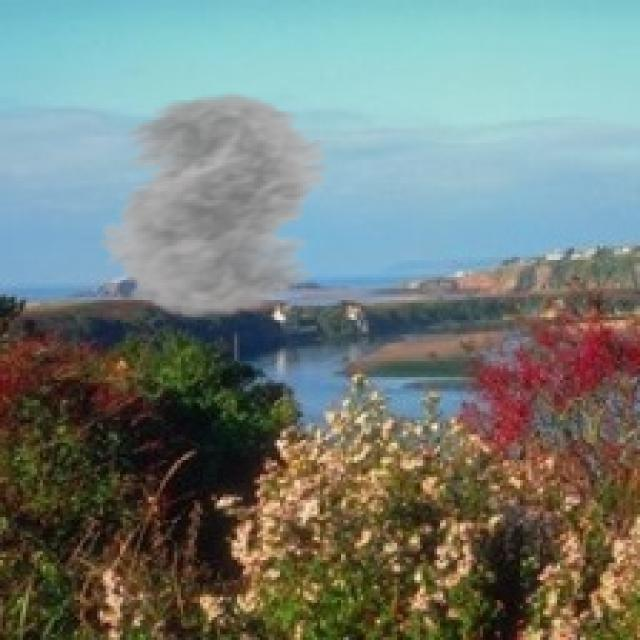smoke: (77, 91, 360, 320)
